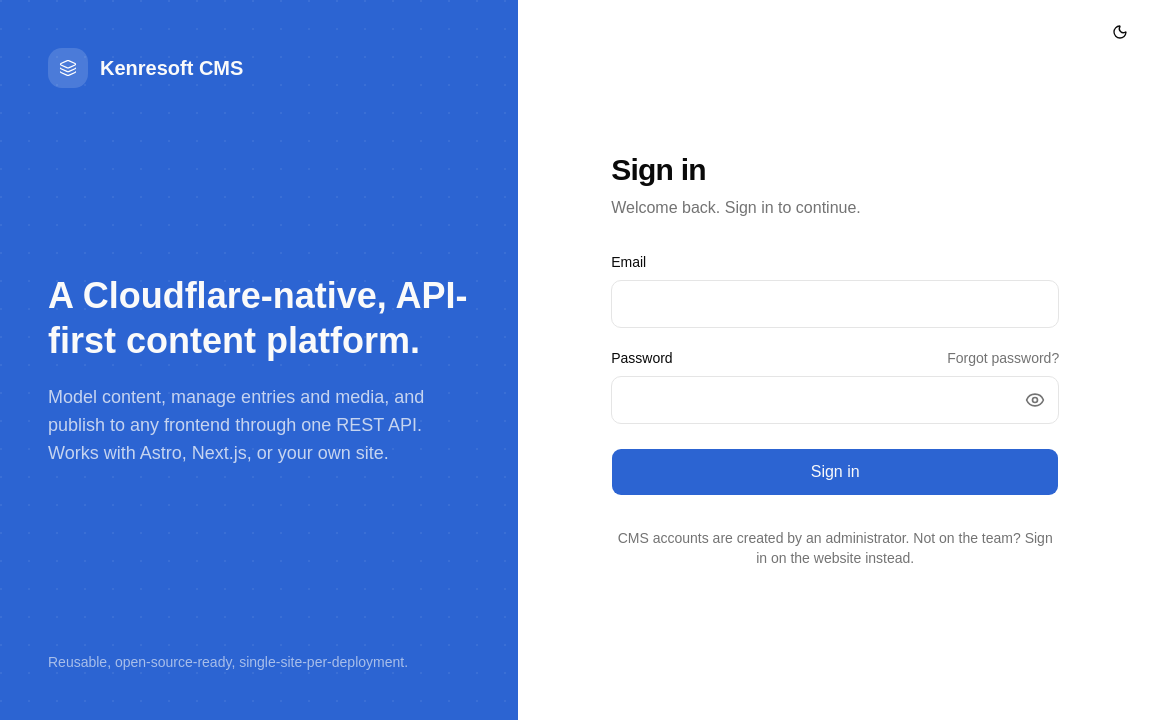
Test: LoginPage › submits credentials and surfaces an error on failure
In the field labelled "Email": (835, 304) [611,280,1059,328], type "user@example.test"
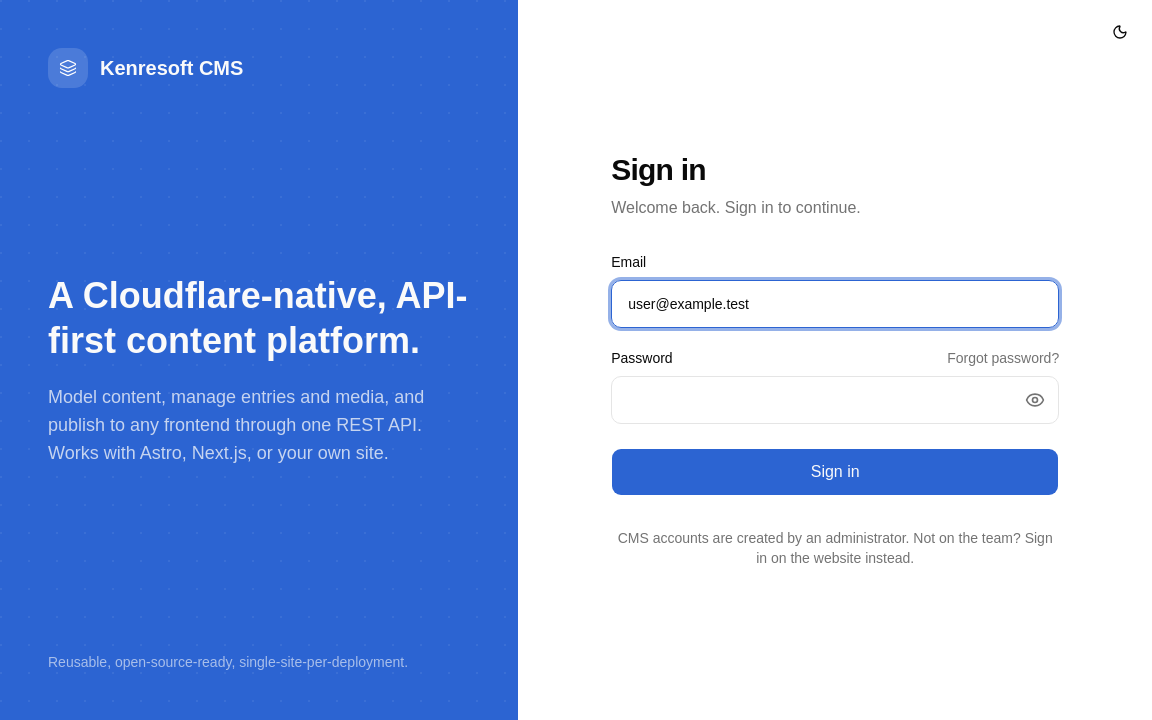
In the password field labelled "Password": (835, 400) [611,376,1059,424], type "wrong-password"
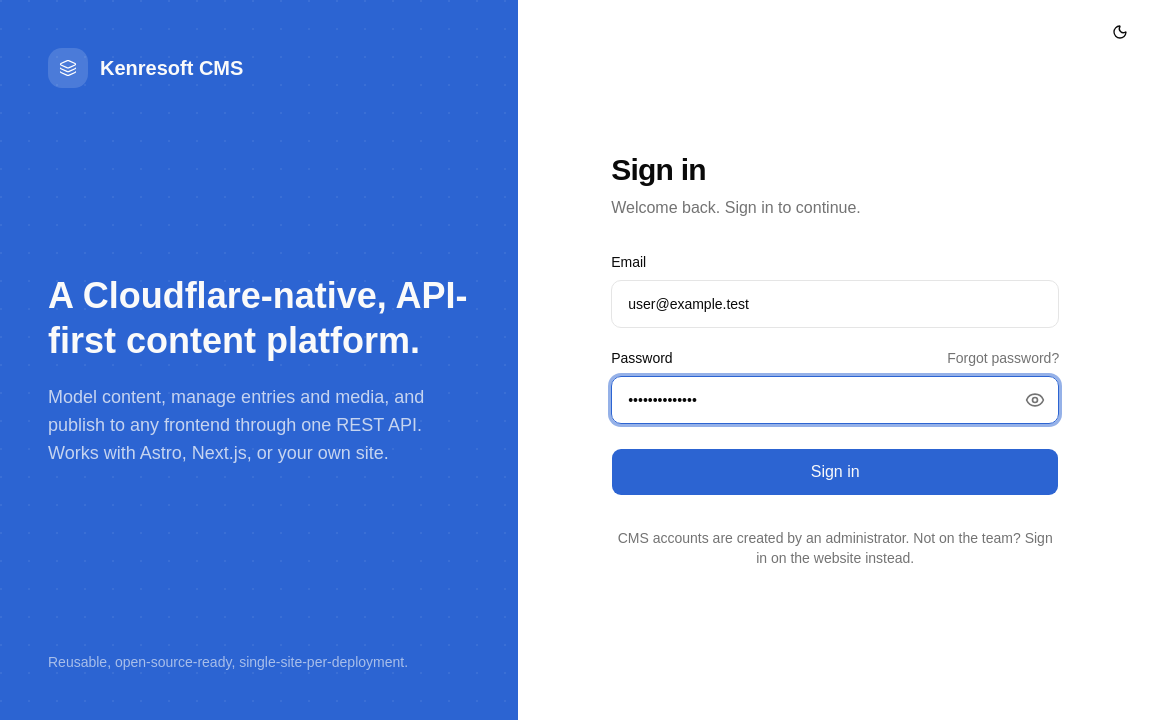
Click the button "Sign in": (835, 472) [611,448,1059,496]
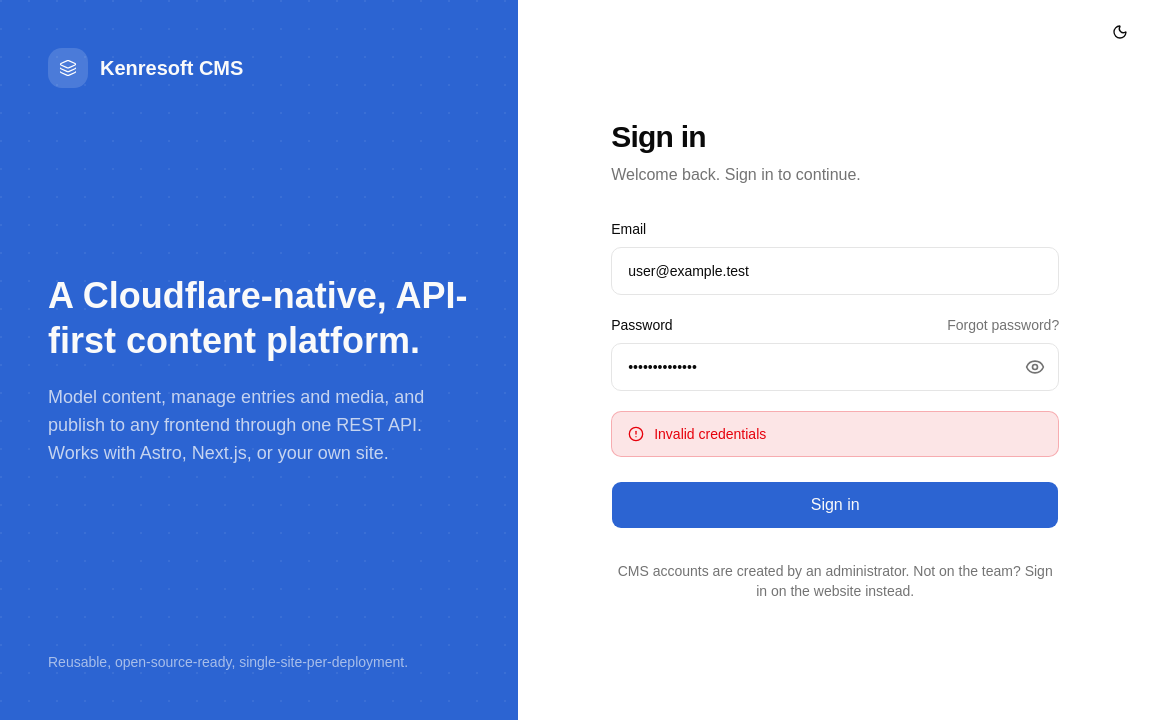
Result: the text "Invalid credentials" is shown at [654,424,766,444]
